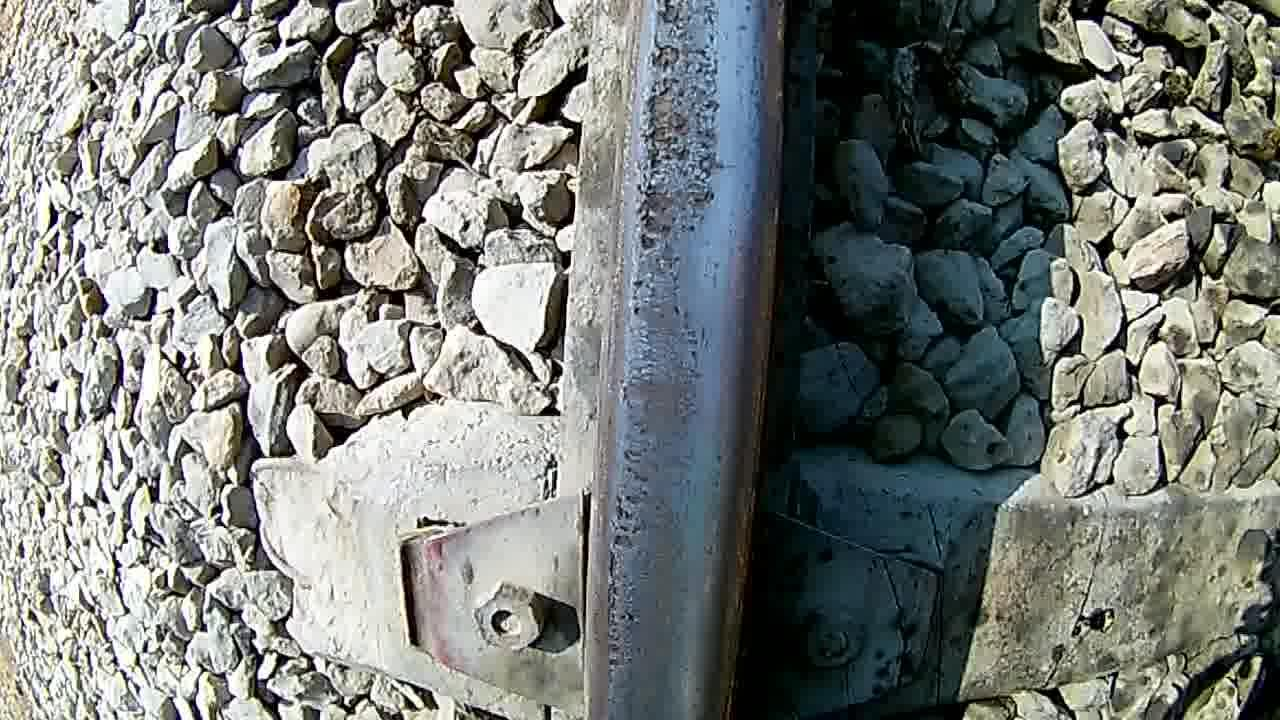crack: (576, 0, 771, 720)
